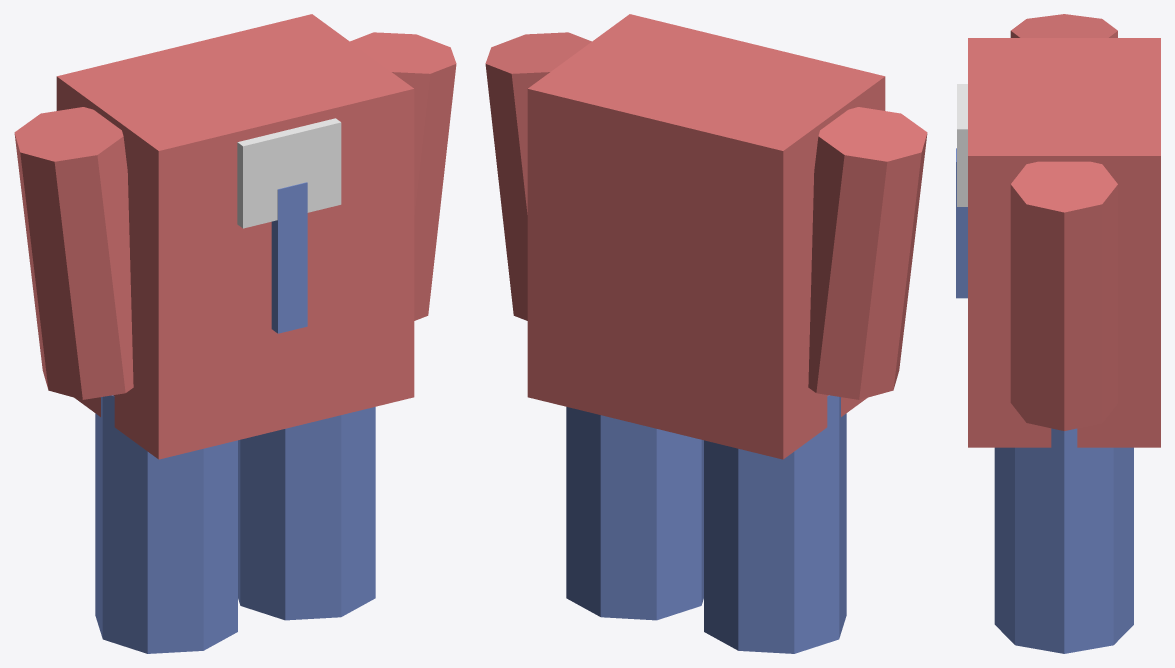
File: formal_smart.glb
3 renders of one model, left to right at view 1: azimuth 30°, elevation 25°; view 2: azimuth 150°, elevation 25°; view 3: azimuth 270°, elevation 25°, orthographic. The views are drawn at different scales.
Parts seen in each view (by area): view 1: top, pant, sleeve, pant.001, sleeve.001, collar, tie; view 2: top, pant, sleeve, pant.001, sleeve.001; view 3: top, pant.001, sleeve.001, sleeve, collar, tie.
Boxes of the visible parts, x1=… form: top: x1=56, y1=14, x2=414, y2=459; pant: x1=95, y1=395, x2=237, y2=653; sleeve: x1=14, y1=107, x2=133, y2=399; pant.001: x1=238, y1=407, x2=375, y2=620; sleeve.001: x1=350, y1=32, x2=456, y2=320; collar: x1=237, y1=118, x2=341, y2=228; tie: x1=271, y1=182, x2=307, y2=333; top: x1=527, y1=14, x2=885, y2=459; pant: x1=704, y1=395, x2=846, y2=653; sleeve: x1=808, y1=107, x2=927, y2=399; pant.001: x1=566, y1=407, x2=703, y2=620; sleeve.001: x1=485, y1=32, x2=591, y2=320; top: x1=968, y1=38, x2=1160, y2=447; pant.001: x1=994, y1=428, x2=1133, y2=653; sleeve.001: x1=1010, y1=161, x2=1117, y2=431; sleeve: x1=1010, y1=14, x2=1117, y2=37; collar: x1=957, y1=84, x2=967, y2=206; tie: x1=956, y1=148, x2=967, y2=298.
Bounding box in the file's own units: 0.438 × 0.51 × 0.191.
